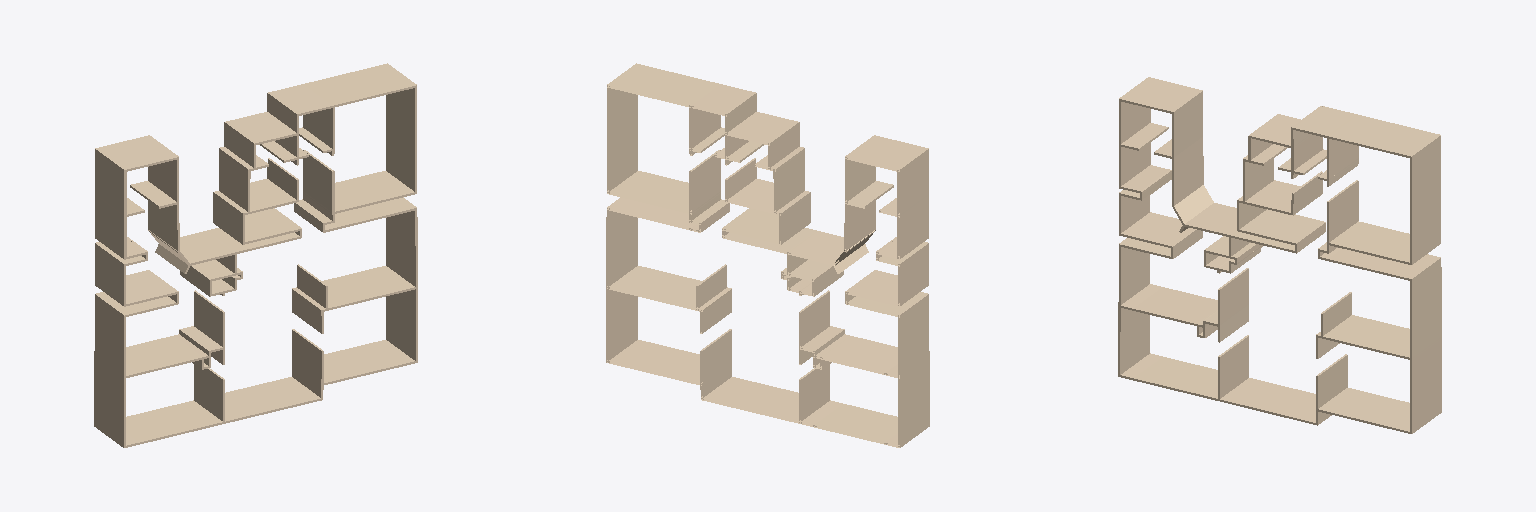
The picture shows the model from 3 angles: view 1: azimuth 30°, elevation 25°; view 2: azimuth 150°, elevation 25°; view 3: azimuth 330°, elevation 25°; orthographic projection.
Visible parts, largest first — view 1: walls; view 2: walls; view 3: walls.
Boxes of the visible parts, x1,y1,x2,y2 form: walls: [94, 63, 417, 447]; walls: [606, 63, 929, 447]; walls: [1118, 77, 1441, 433].
Size of the model in its own units: 14.26 by 13.56 by 2.5.
Materials: 1 (1 with a texture image).